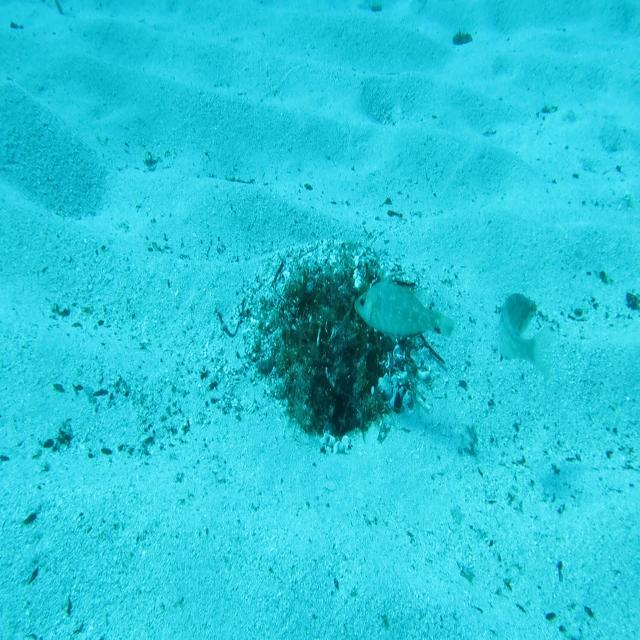ROLL: (354, 264, 456, 344)
core_nest: (310, 285, 355, 323)
female: (496, 290, 556, 384)
nest: (231, 227, 442, 461)
vegetation: (452, 32, 475, 50)
